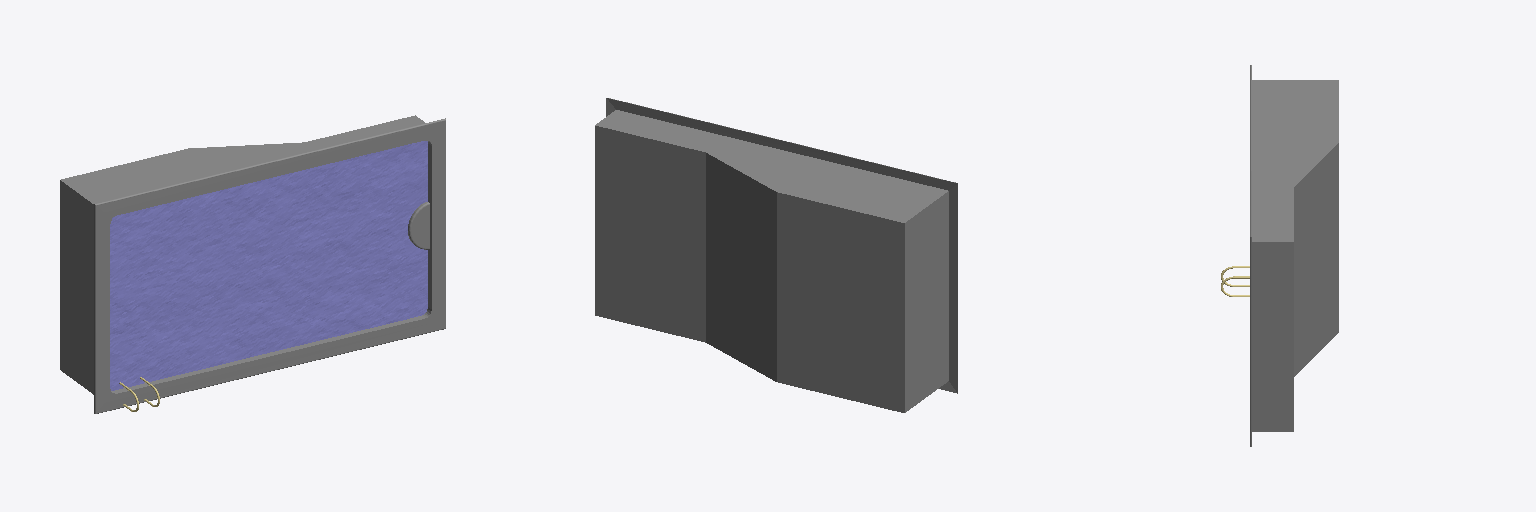
File: SwimmingPool.obj
3 views of the same model, side by side, from view 1: azimuth 30°, elevation 25°; view 2: azimuth 150°, elevation 25°; view 3: azimuth 270°, elevation 25° (orthographic).
Visible parts, largest first — view 1: SWIMMING_POOL_WATER, SWIMMING_POOL; view 2: SWIMMING_POOL; view 3: SWIMMING_POOL.
Boxes of the visible parts, <box> form: SWIMMING_POOL_WATER: <box>110,141,427,390</box>; SWIMMING_POOL: <box>60,115,445,413</box>; SWIMMING_POOL: <box>595,98,957,412</box>; SWIMMING_POOL: <box>1250,65,1338,446</box>.
Bounding box in the file's own units: 92.66 × 52.93 × 27.14.